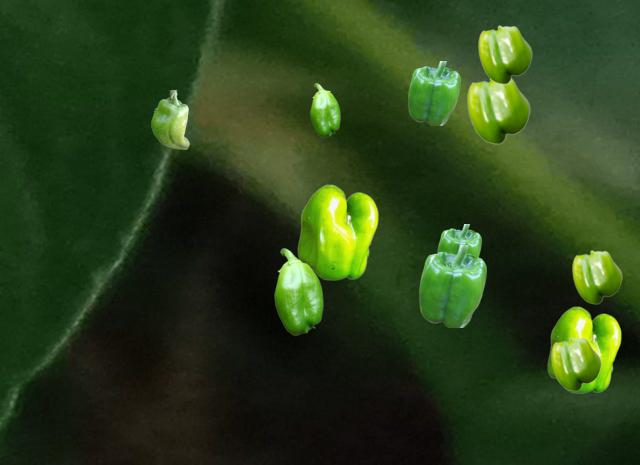bell_pepper: (297, 184, 377, 279), (547, 306, 620, 392), (419, 245, 485, 326), (274, 248, 322, 334), (467, 78, 529, 143), (408, 61, 459, 124), (478, 25, 531, 83), (551, 337, 600, 390), (572, 250, 621, 303), (151, 90, 188, 148), (310, 83, 339, 136), (437, 224, 480, 256)
